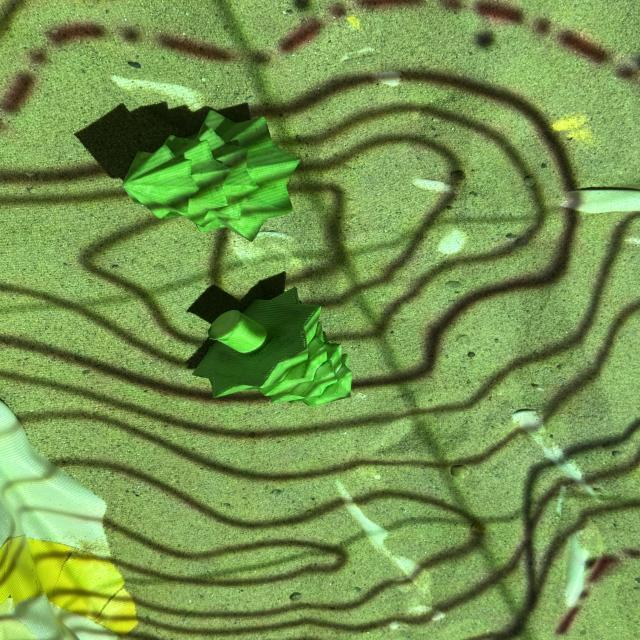tree: (122, 106, 298, 240), (191, 285, 352, 406)
